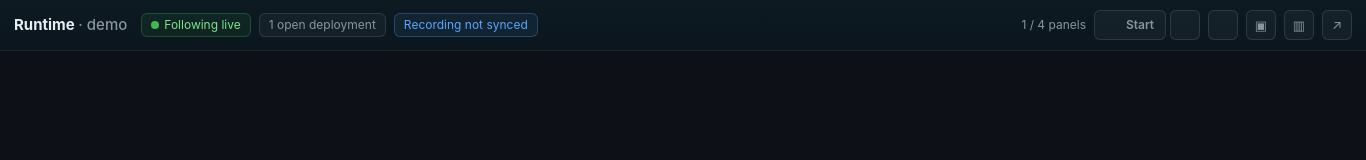
RuntimeWorkbenchHeader › opens a browser debug session for the active deployment
Click the button with test id "open-browser-debug": coordinates (1223, 25) [1208,10,1238,40]
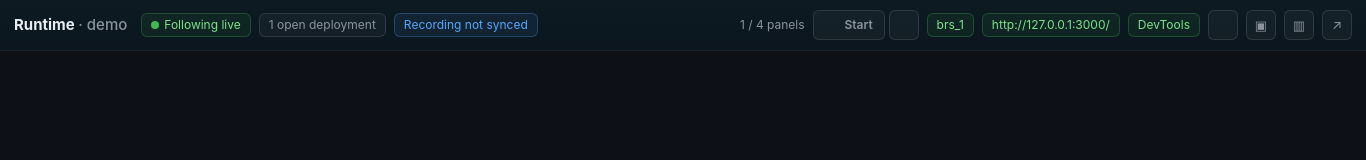
Now the text "brs_1" is shown, box [927,13,974,37]
